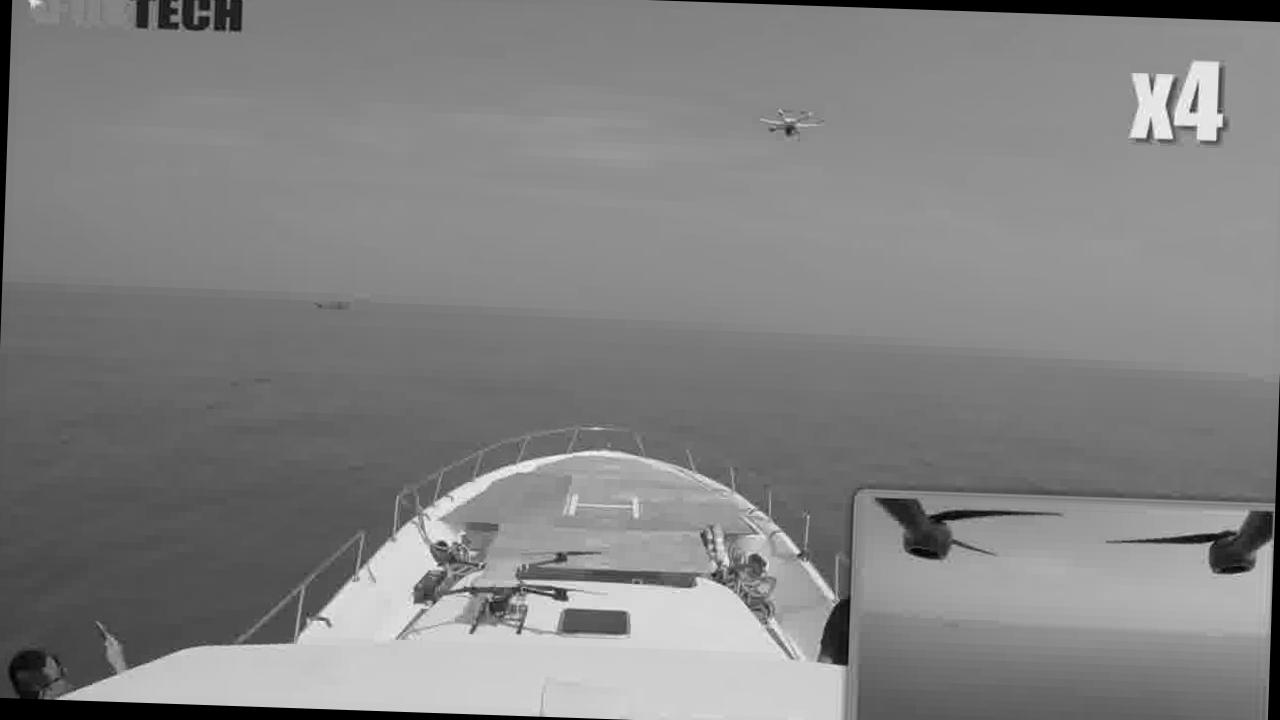drone: (381, 518, 585, 642), (744, 88, 842, 154)
